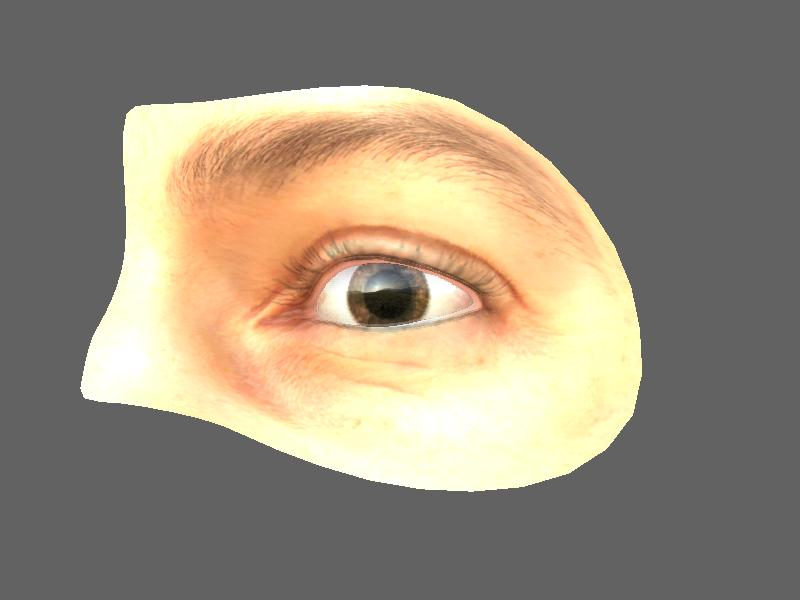iris: (336, 263, 429, 331)
